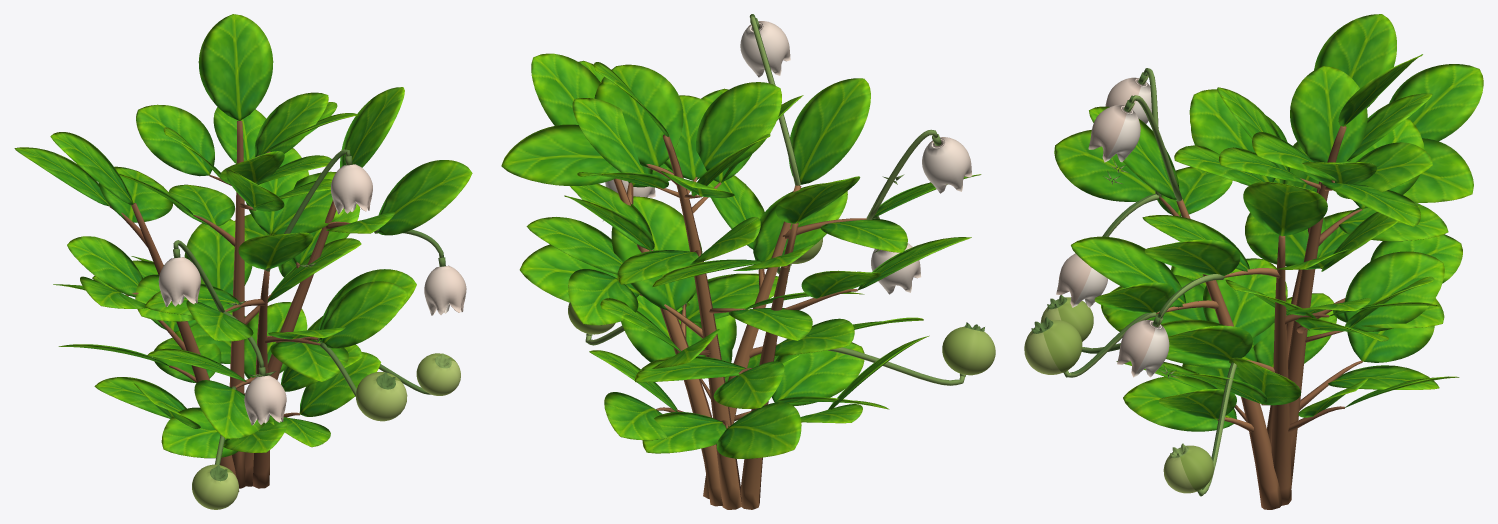
File: NP_Blueberry_Flowering.fbx
3 renders of one model, left to right at view 1: azimuth 30°, elevation 25°; view 2: azimuth 150°, elevation 25°; view 3: azimuth 270°, elevation 25°, orthographic. The views are drawn at different scales.
Visible parts, largest first — view 1: NP_Blueberry_Flowering; view 2: NP_Blueberry_Flowering; view 3: NP_Blueberry_Flowering.
Boxes of the visible parts, x1,y1,x2,y2 form: NP_Blueberry_Flowering: [14, 14, 472, 509]; NP_Blueberry_Flowering: [501, 14, 995, 509]; NP_Blueberry_Flowering: [1024, 14, 1483, 509].
Bounding box in the file's own units: 66.11 × 72.76 × 64.08.
1 material, 1 textured.
